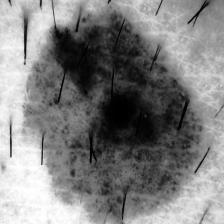Benign Marking or Mole: (27, 13, 199, 220)
